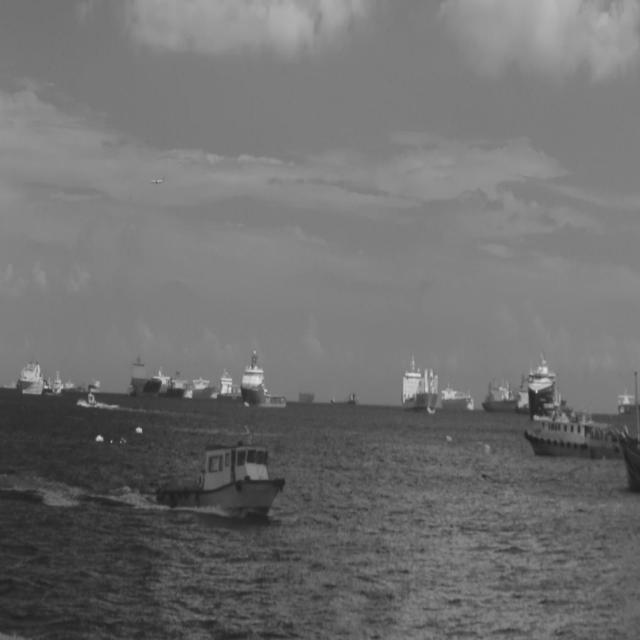buoy: (135, 424, 143, 434)
ship: (155, 419, 286, 520), (524, 385, 620, 459), (240, 345, 287, 408), (528, 348, 567, 420), (401, 353, 438, 414), (126, 354, 162, 398), (481, 371, 518, 412), (618, 429, 639, 493), (17, 354, 45, 395), (440, 380, 474, 411), (183, 372, 218, 400), (217, 363, 241, 401), (166, 362, 190, 397), (618, 386, 640, 416), (330, 392, 359, 408), (50, 368, 66, 396), (85, 389, 96, 408), (88, 377, 101, 393)
